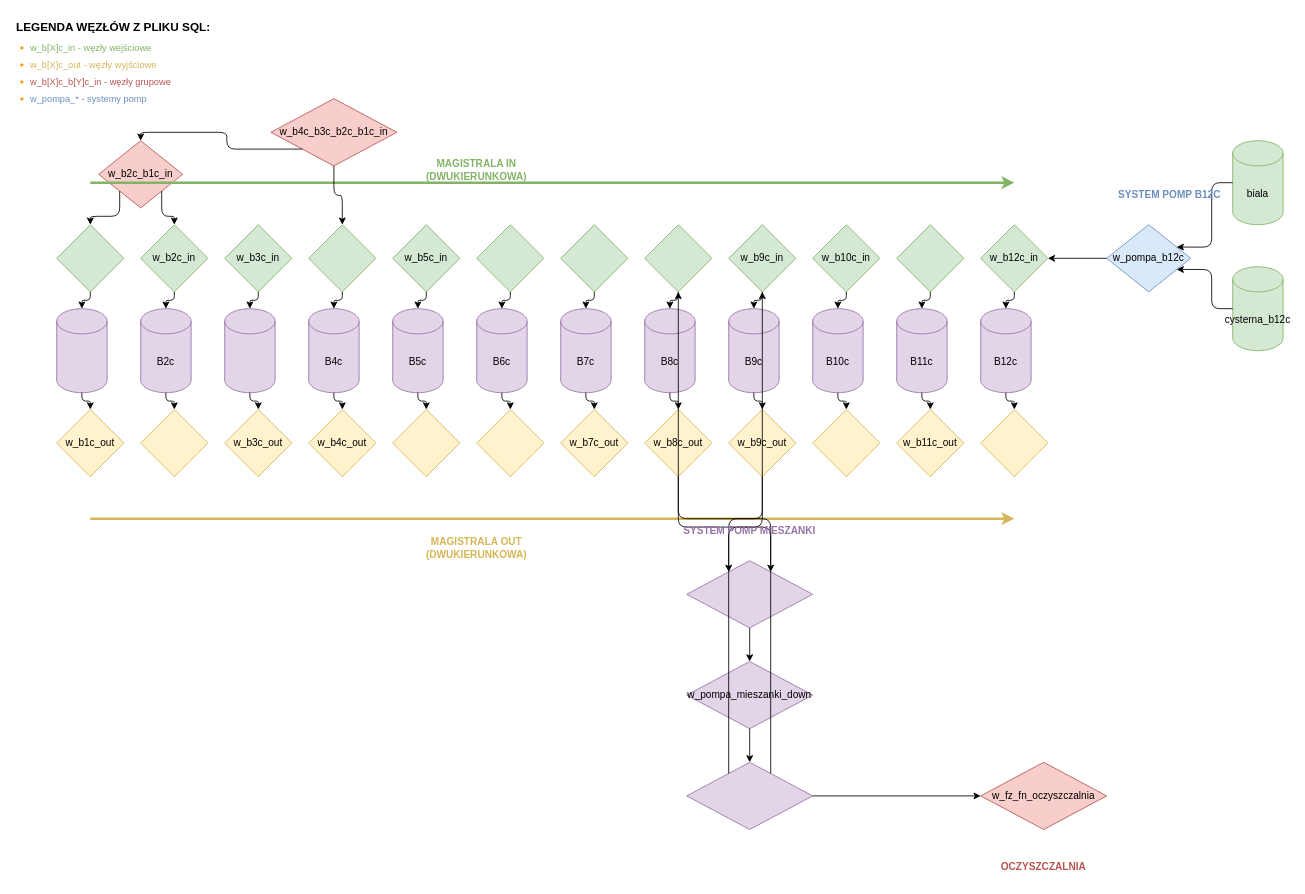
Some shapes in this 1305 by 894 pixel diagram are drawn without their labels. Here are the shapes that lost their labels. From the top down, the centre of each, then its label:
pixel 90 258: w_b1c_in
pixel 342 258: w_b4c_in
pixel 510 258: w_b6c_in
pixel 594 258: w_b7c_in
pixel 678 258: w_b8c_in
pixel 930 258: w_b11c_in
pixel 81 350: B1c
pixel 249 350: B3c
pixel 174 443: w_b2c_out
pixel 426 443: w_b5c_out
pixel 510 443: w_b6c_out
pixel 846 443: w_b10c_out
pixel 1014 443: w_b12c_out
pixel 749 594: w_pompa_mieszanki_rurociag
pixel 749 795: w_pompa_mieszanki_up
